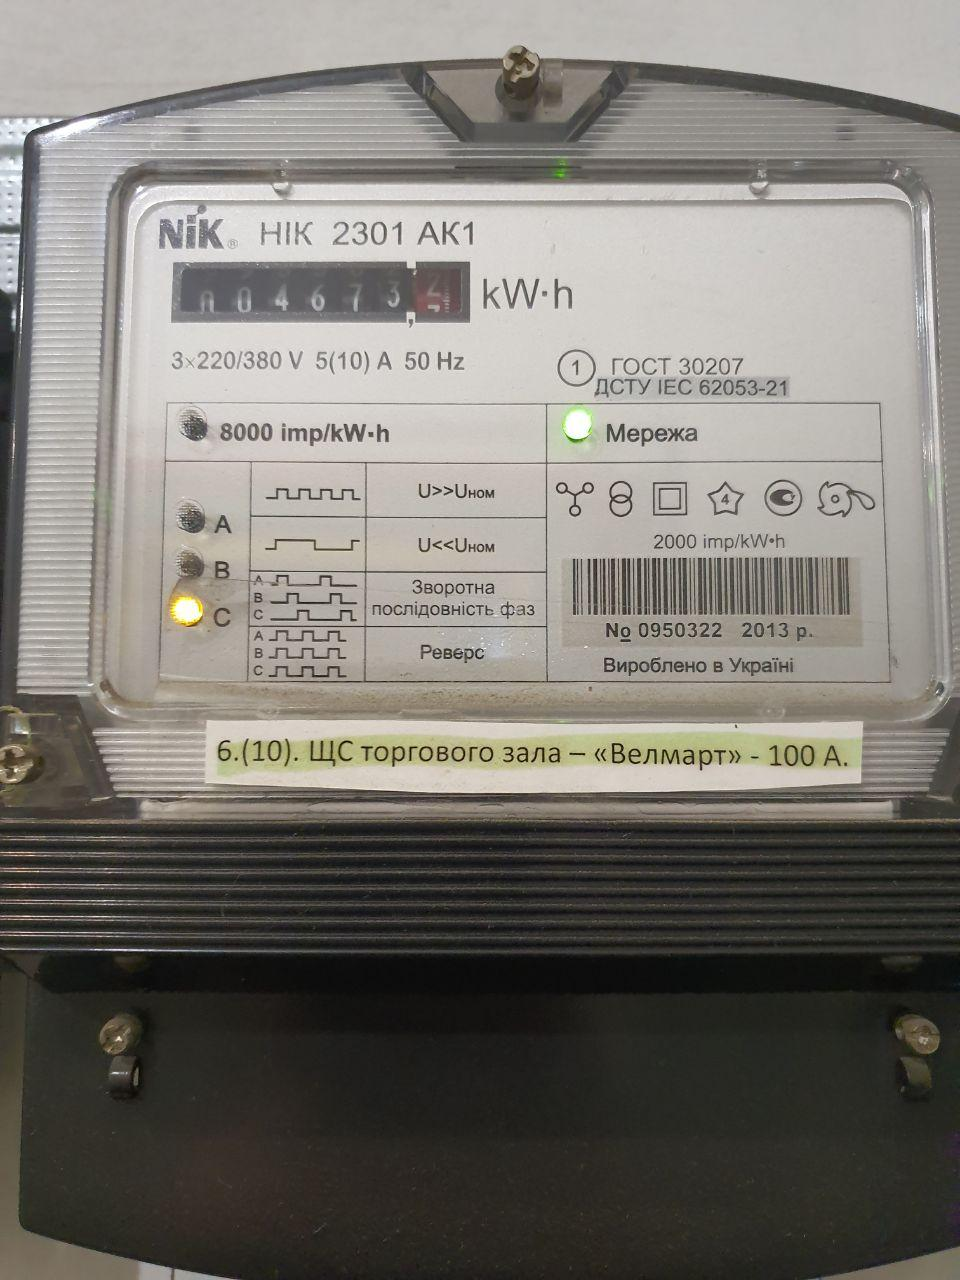0: (197, 286, 217, 316), (235, 284, 253, 315)
2: (424, 268, 444, 300)
3: (385, 277, 402, 311)
4: (273, 280, 291, 315)
6: (307, 280, 328, 314)
7: (345, 280, 367, 317)
screen: (167, 257, 476, 333)
